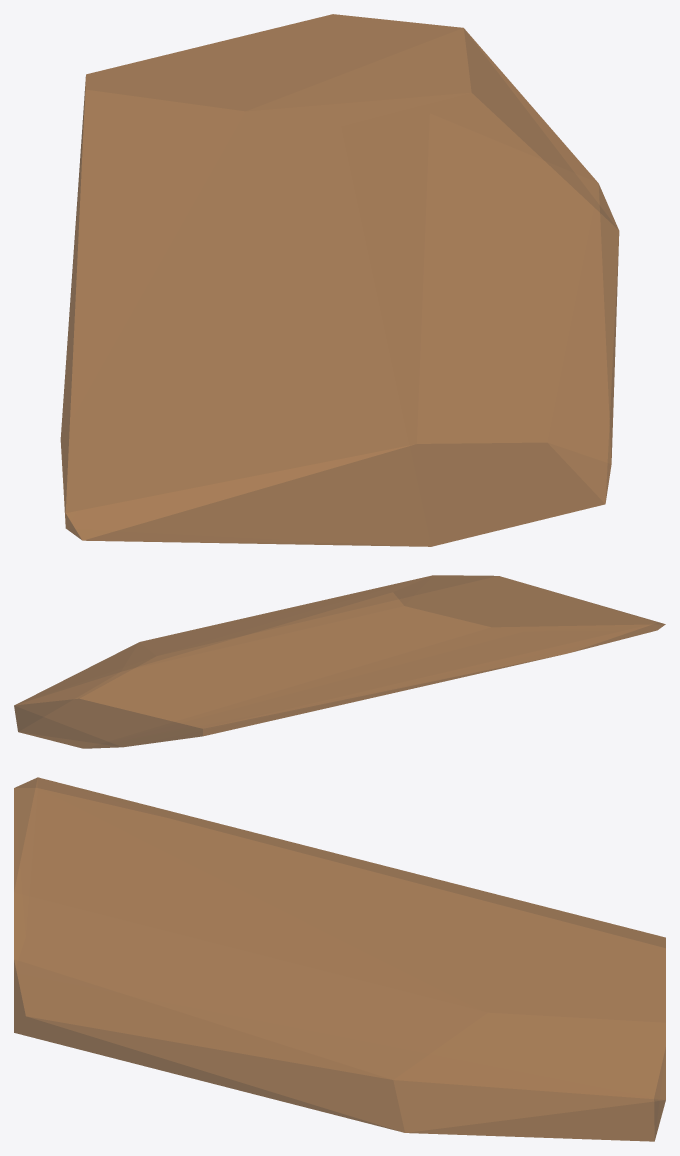
3 renders of one model, top to bottom at view 1: azimuth 30°, elevation 25°; view 2: azimuth 150°, elevation 25°; view 3: azimuth 270°, elevation 25°, orthographic. The views are drawn at different scales.
Visible parts, largest first — view 1: Shape_IndexedFaceSet.030_Shape_IndexedFaceSet.5921; view 2: Shape_IndexedFaceSet.030_Shape_IndexedFaceSet.5921; view 3: Shape_IndexedFaceSet.030_Shape_IndexedFaceSet.5921.
Part boxes in pixels (box(x1,y1,x2,y2)): Shape_IndexedFaceSet.030_Shape_IndexedFaceSet.5921: box(60, 14, 619, 546); Shape_IndexedFaceSet.030_Shape_IndexedFaceSet.5921: box(14, 575, 665, 748); Shape_IndexedFaceSet.030_Shape_IndexedFaceSet.5921: box(14, 777, 665, 1141).
Bounding box in the file's own units: 0.1142 × 0.0138 × 0.1083.
